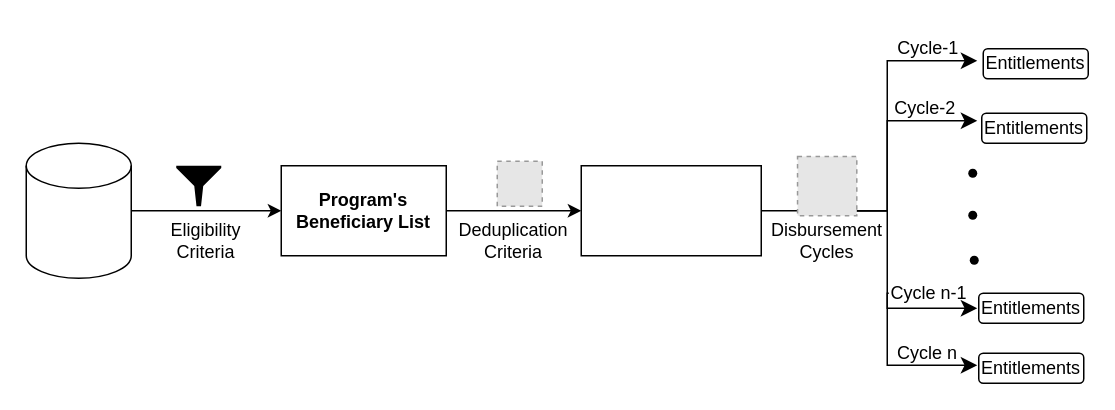
Image size: 1115x410. Some labels were removed from this diagram. Grey dashed boxes stand in for pictures. The shapes that lost their labels are listed below. From the top down, each one's centre as x and y in pixels, then its label:
point (78, 210): Registry
point (670, 210): Deduplicated Beneficiary List
